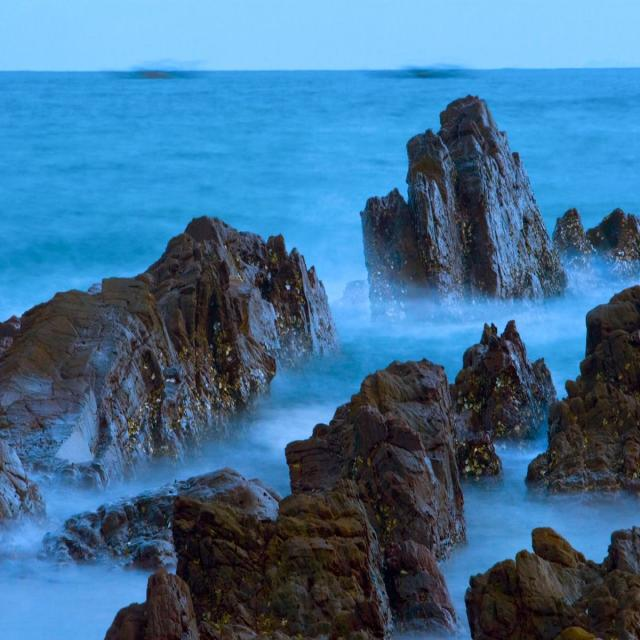reef: (359, 333, 640, 640), (22, 221, 328, 483), (362, 138, 640, 296)
